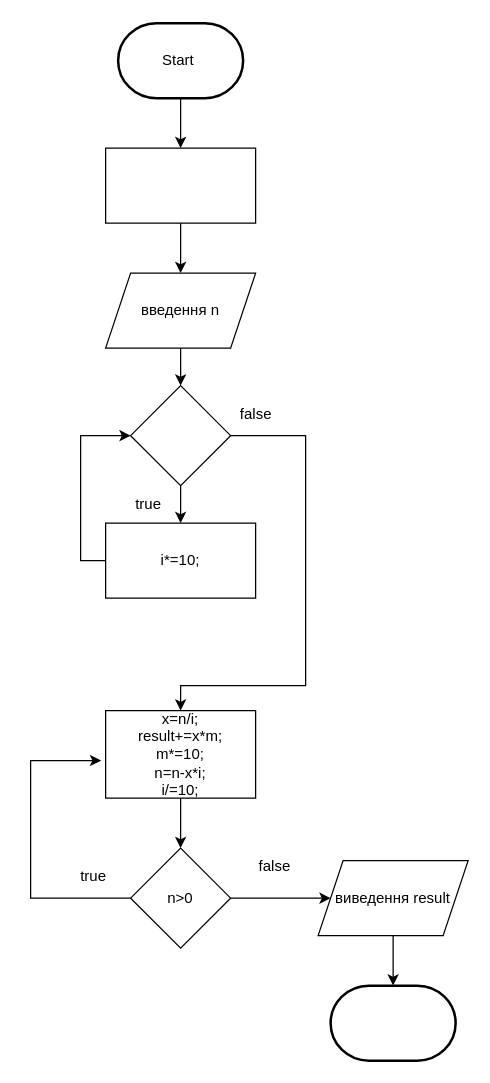
Some shapes in this 490 by 1083 pixel diagram are drawn without their labels. Each missing label, with the box of its shape:
char x; long long n, i=1, result=0, m=1;: (104, 147, 256, 223)
End: (329, 984, 456, 1061)
n/i>=10: (129, 384, 231, 486)
